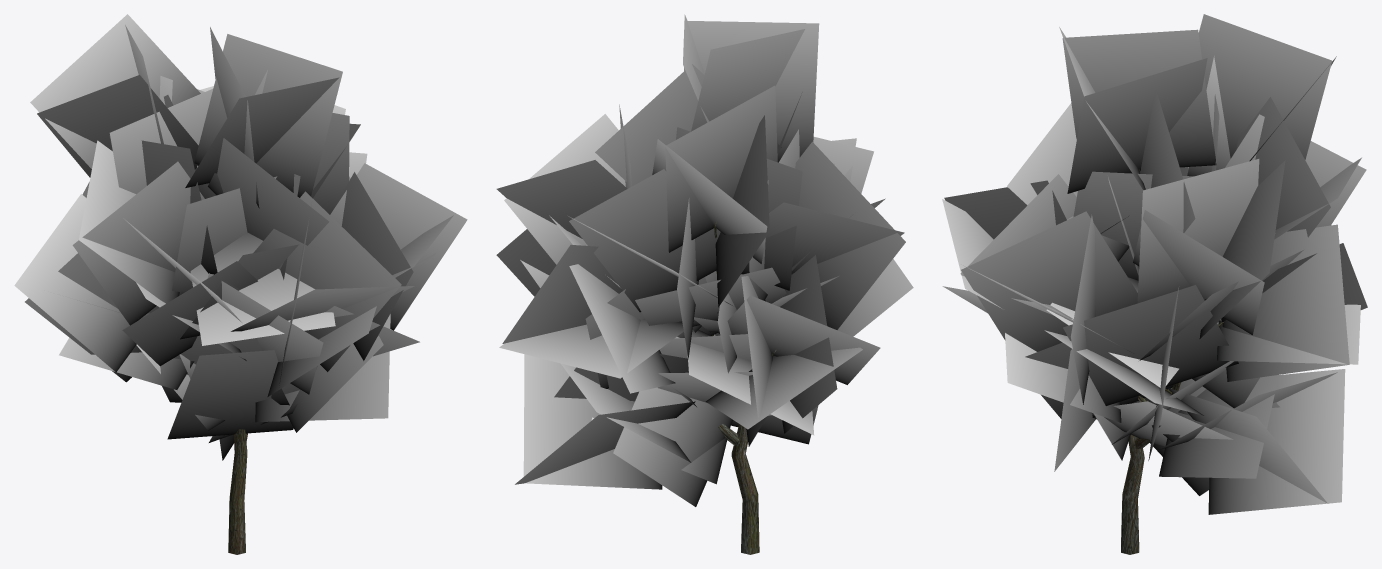
The model's file is tree6.fbx.
3 renders of one model, left to right at view 1: azimuth 30°, elevation 25°; view 2: azimuth 150°, elevation 25°; view 3: azimuth 270°, elevation 25°, orthographic. The views are drawn at different scales.
Parts seen in each view (by area): view 1: tree6_leafs, tree6_leafs_flip, tree6_trunk; view 2: tree6_leafs, tree6_leafs_flip, tree6_trunk; view 3: tree6_leafs, tree6_leafs_flip, tree6_trunk.
Part boxes in pixels (x1,y1,x2,y2): tree6_leafs: (14, 14, 467, 460); tree6_leafs_flip: (24, 27, 465, 458); tree6_trunk: (228, 429, 247, 554); tree6_leafs: (496, 14, 913, 506); tree6_leafs_flip: (498, 20, 904, 504); tree6_trunk: (712, 222, 776, 554); tree6_leafs: (942, 14, 1367, 514); tree6_leafs_flip: (943, 21, 1366, 513); tree6_trunk: (1121, 169, 1223, 554).
Size of the model in its own units: 10.28 by 12.25 by 9.03.
